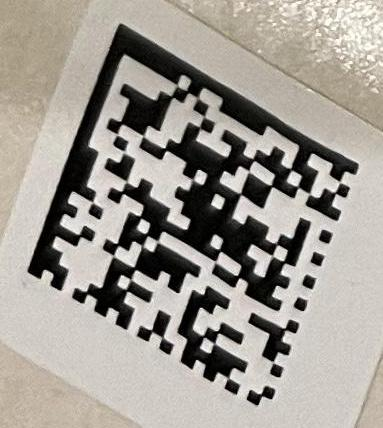datamatrix: (27, 23, 360, 409)
